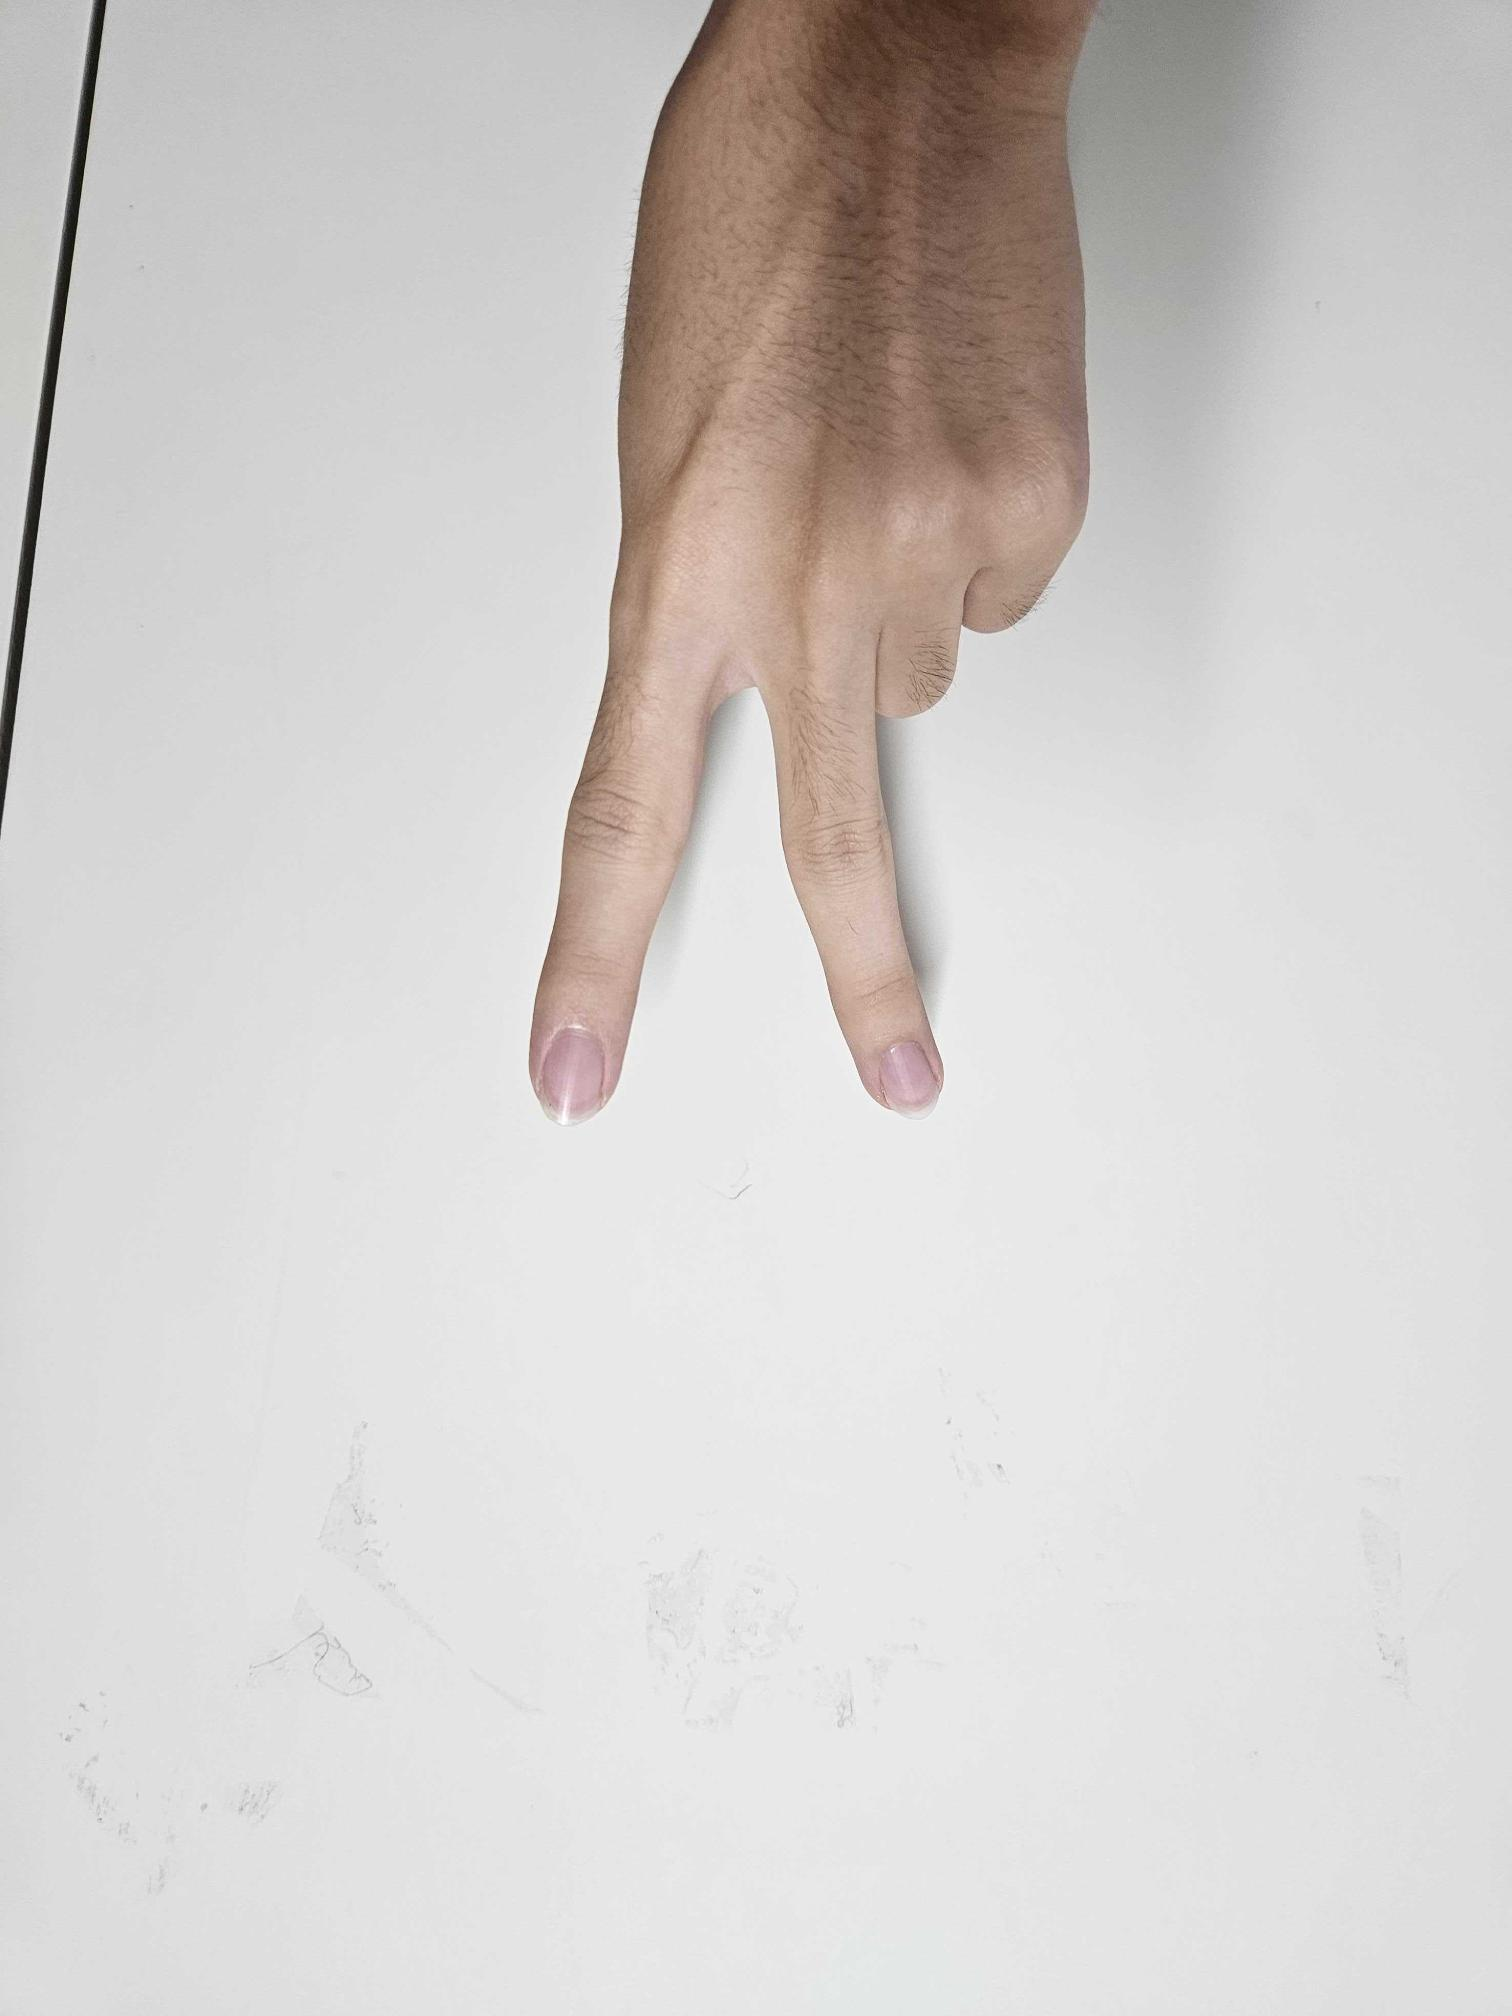v: (518, 0, 1107, 1143)
